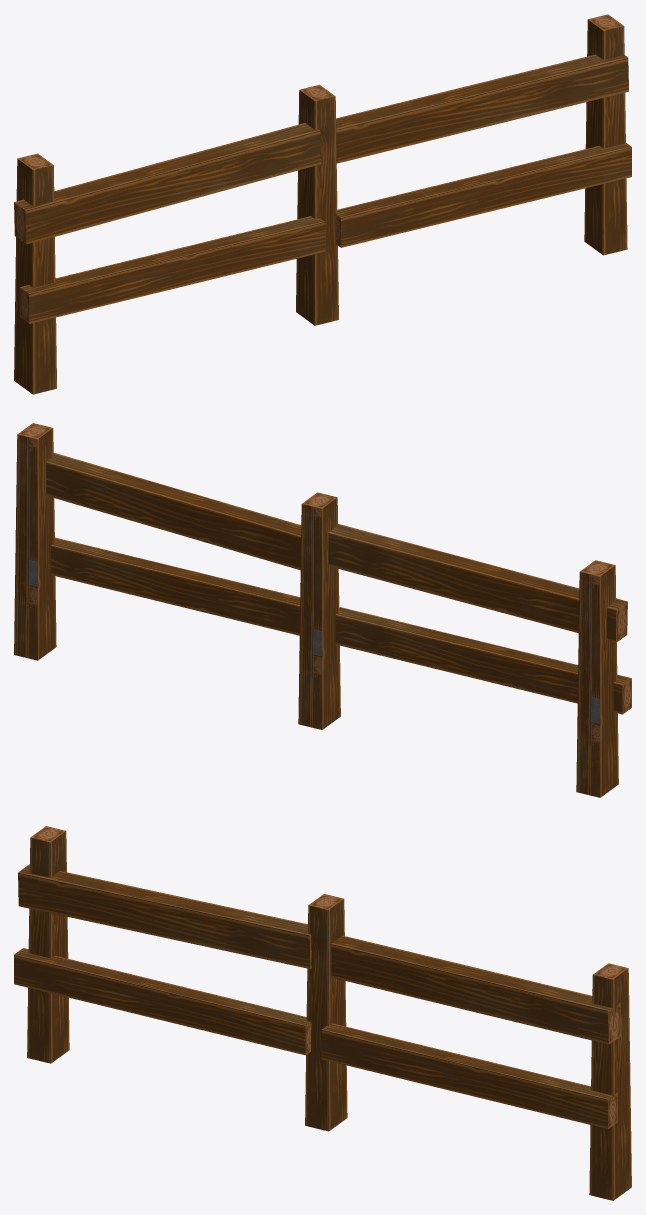
3 views of the same model, one above another, from view 1: azimuth 30°, elevation 25°; view 2: azimuth 150°, elevation 25°; view 3: azimuth 330°, elevation 25° (orthographic).
Visible parts, largest first — view 1: Cube.2156; view 2: Cube.2156; view 3: Cube.2156.
Boxes of the visible parts, bbox=[...] form: Cube.2156: bbox=[14, 14, 631, 394]; Cube.2156: bbox=[14, 423, 631, 797]; Cube.2156: bbox=[14, 826, 631, 1200].
Size of the model in its own units: 373 by 132 by 25.43.
Materials: 1 (1 with a texture image).
